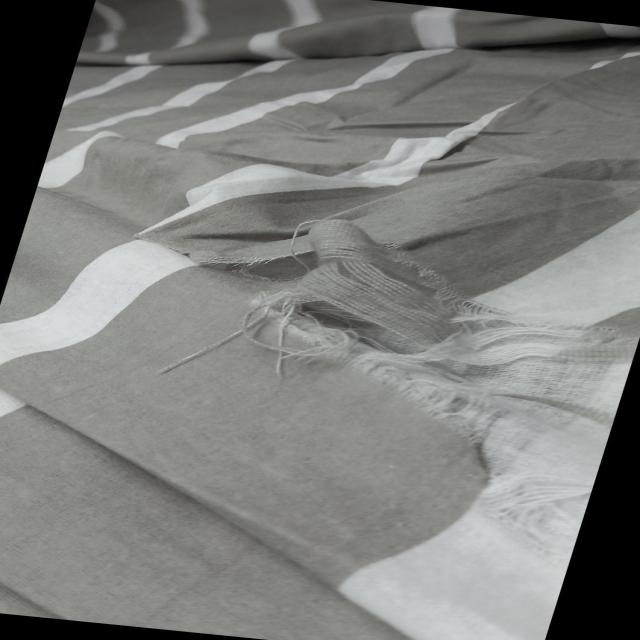cut: (117, 196, 640, 545)
